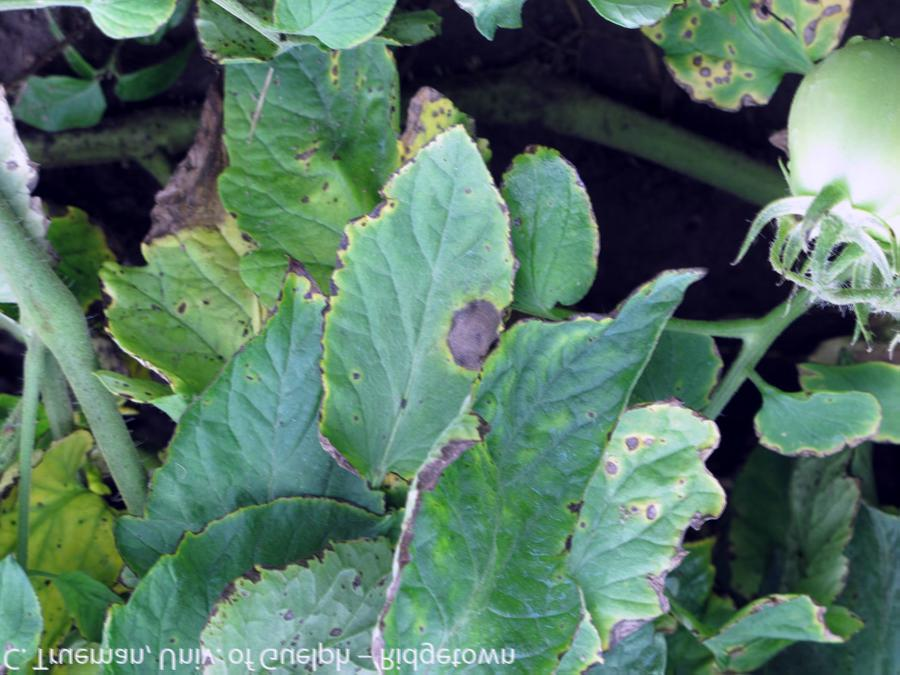Tomato Early blight leaf: (365, 280, 729, 674), (316, 143, 528, 488), (224, 19, 425, 279)
